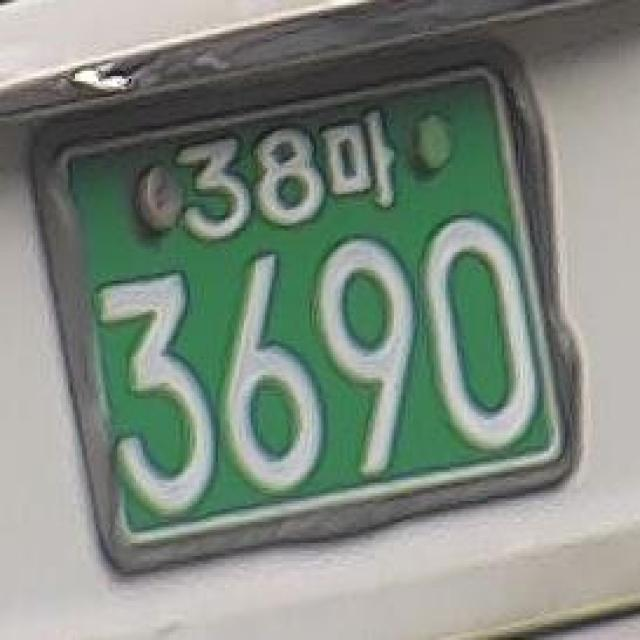illegal_plate: (49, 70, 580, 581)
